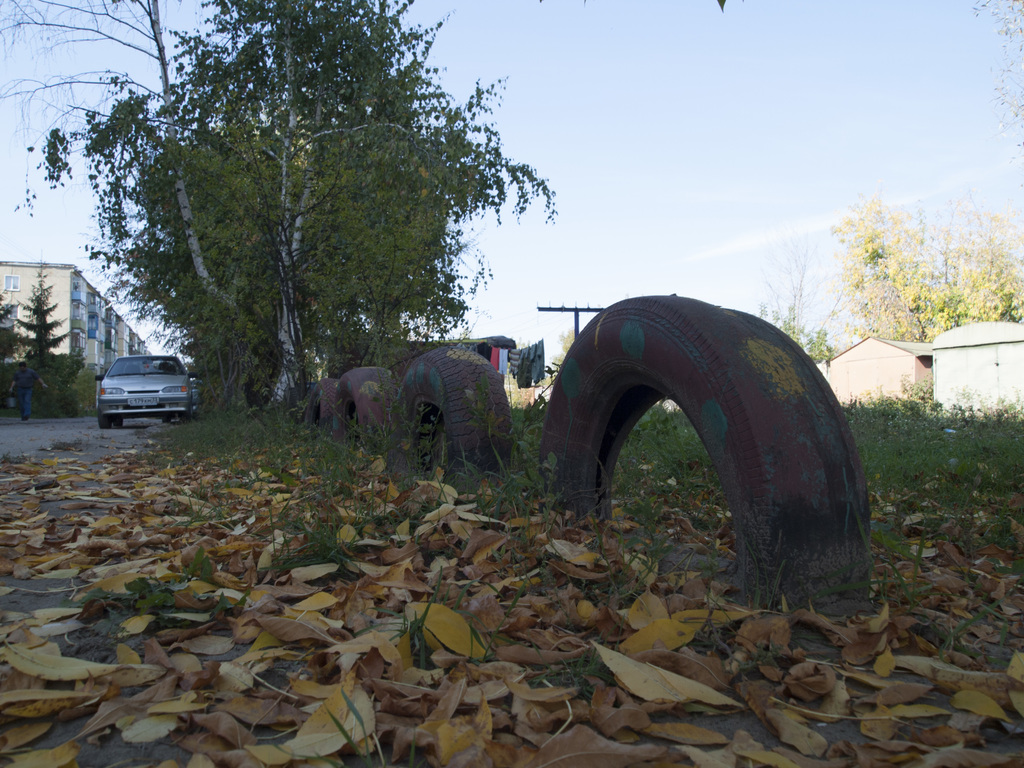Car: (99, 356, 192, 434)
